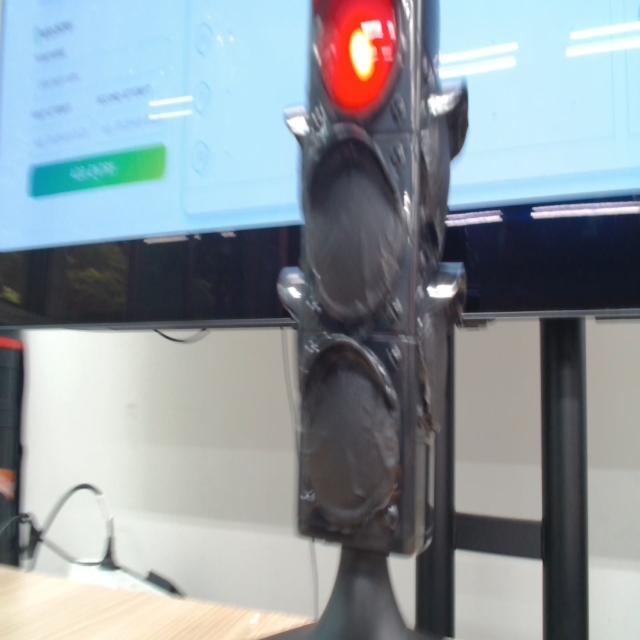red_light: (319, 0, 397, 113)
